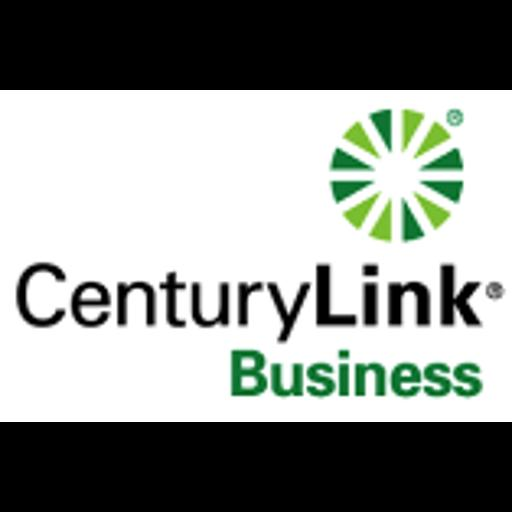CenturyLink: (0, 90, 512, 422)
